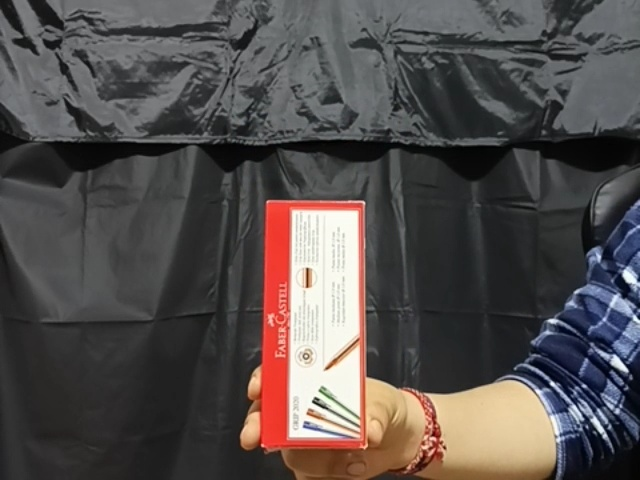xd: (261, 198, 369, 452)
